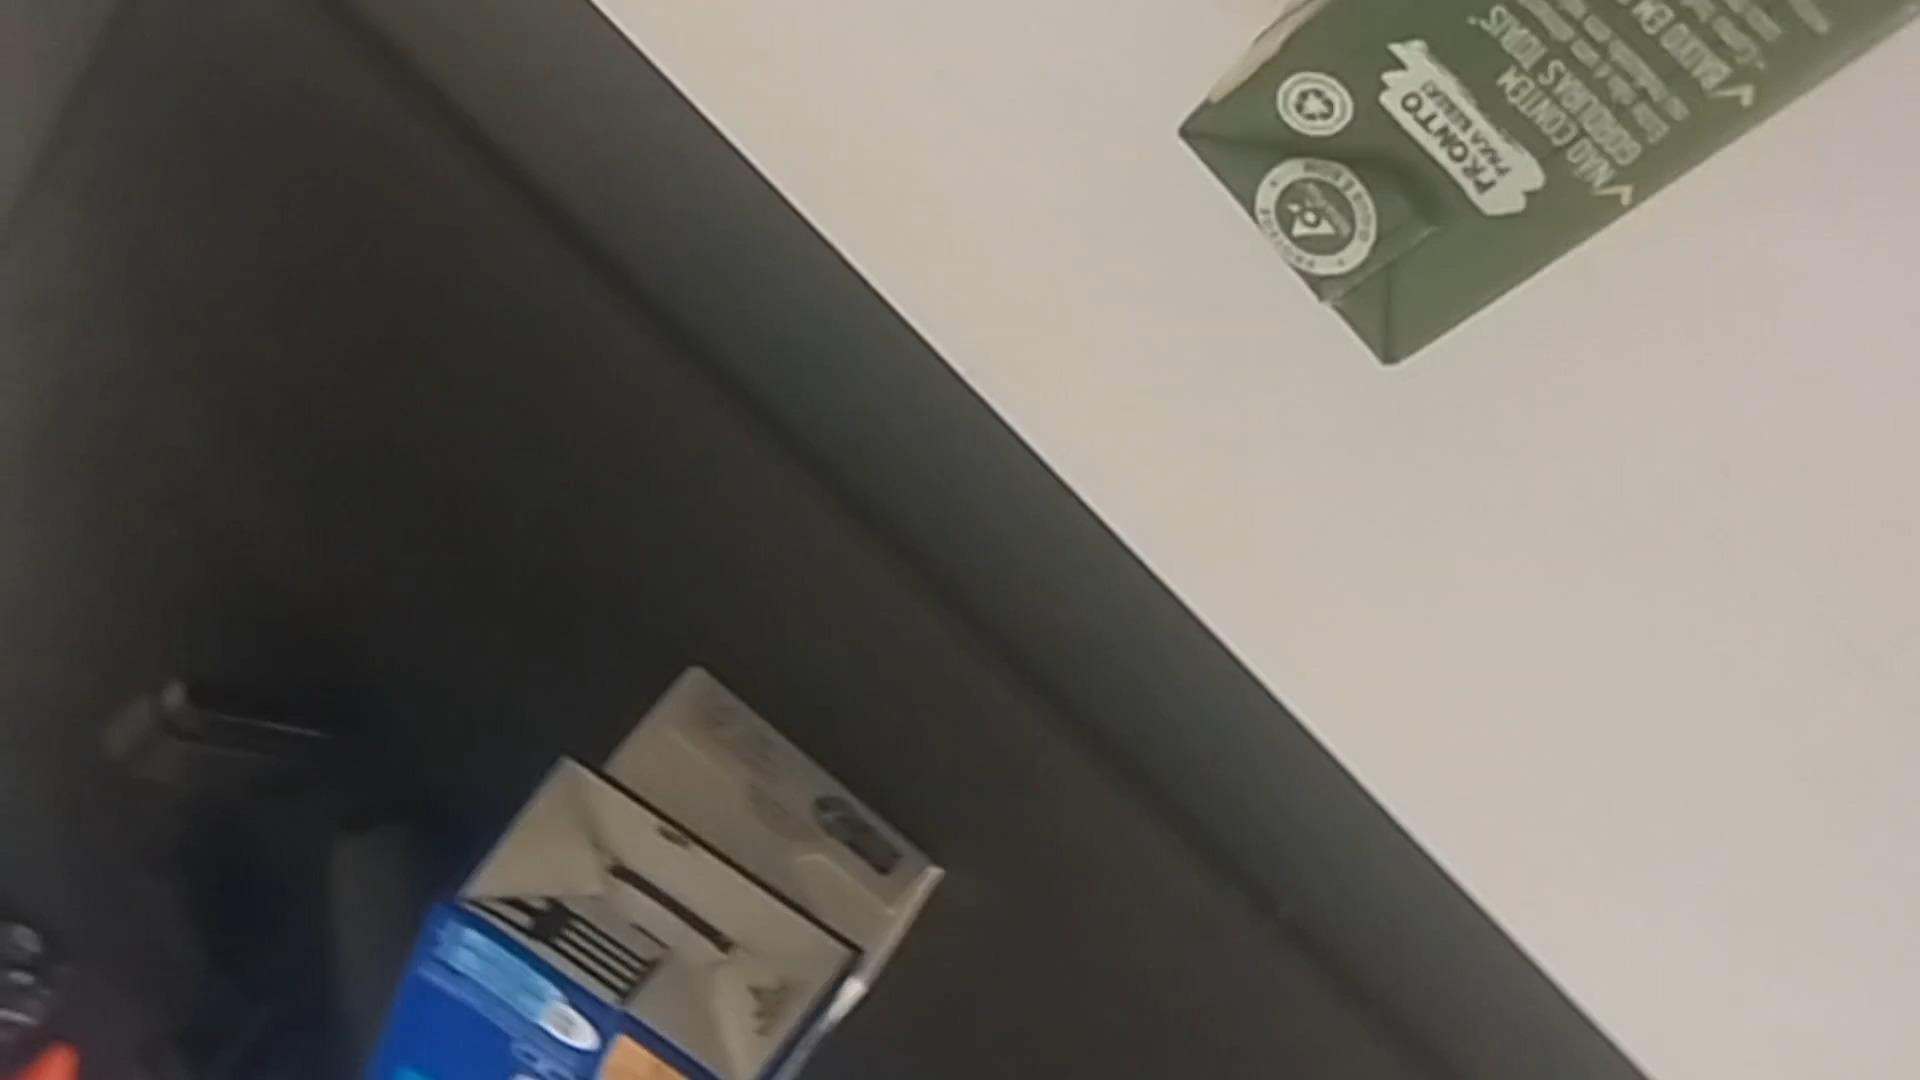coco: (1172, 0, 1920, 382)
